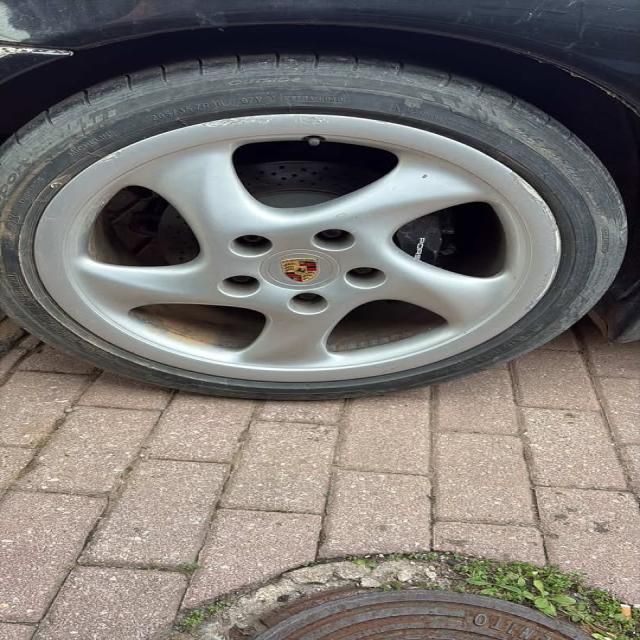jante: (30, 112, 562, 383)
parafuso: (218, 228, 280, 258), (208, 268, 266, 300), (300, 227, 362, 254), (340, 266, 390, 290), (287, 295, 332, 316)
roda: (0, 53, 634, 401)
